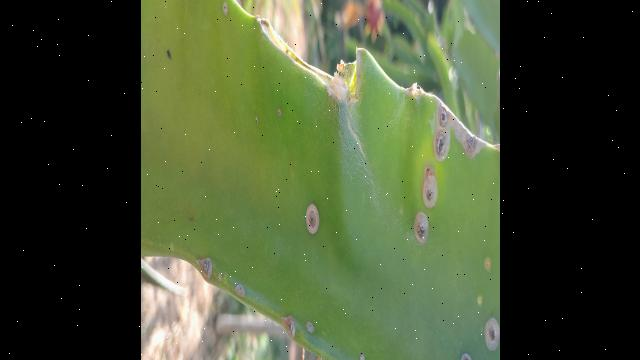stemcanker: (416, 161, 442, 208), (300, 200, 325, 237), (460, 127, 482, 160), (412, 210, 432, 245), (483, 317, 498, 352)
